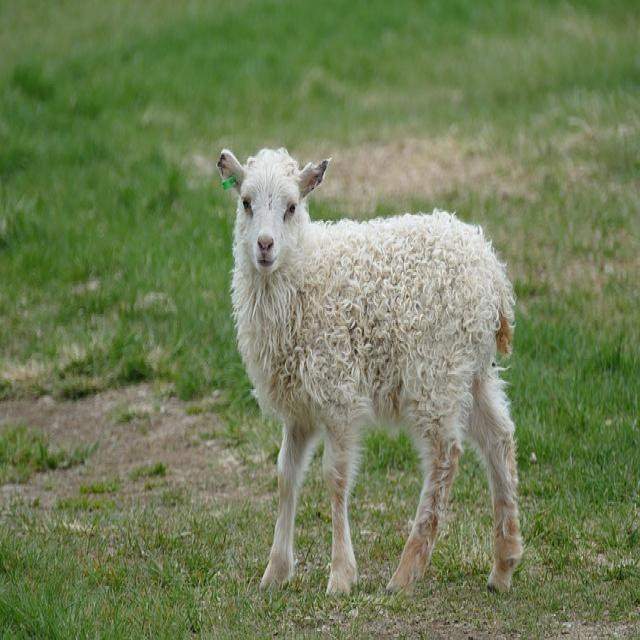goat: (217, 147, 526, 598)
